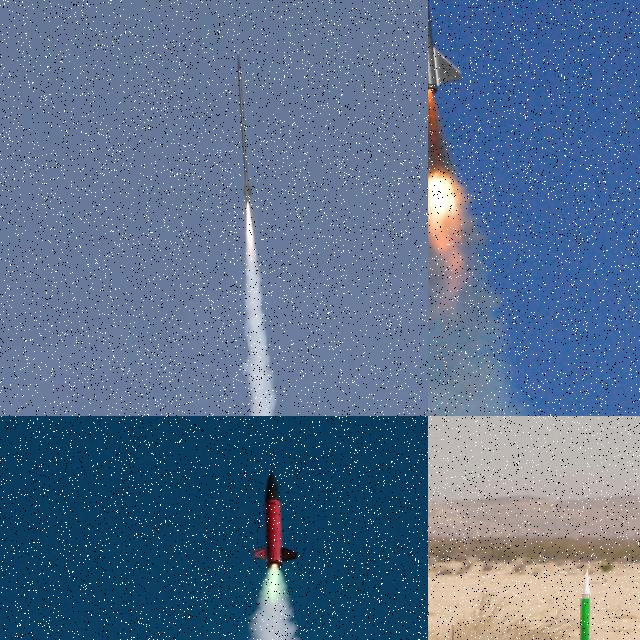Rocket: (252, 470, 299, 570), (428, 0, 463, 96), (236, 50, 252, 201), (572, 567, 596, 640)
